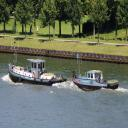tugboat: (9, 56, 68, 89), (73, 65, 121, 95)
